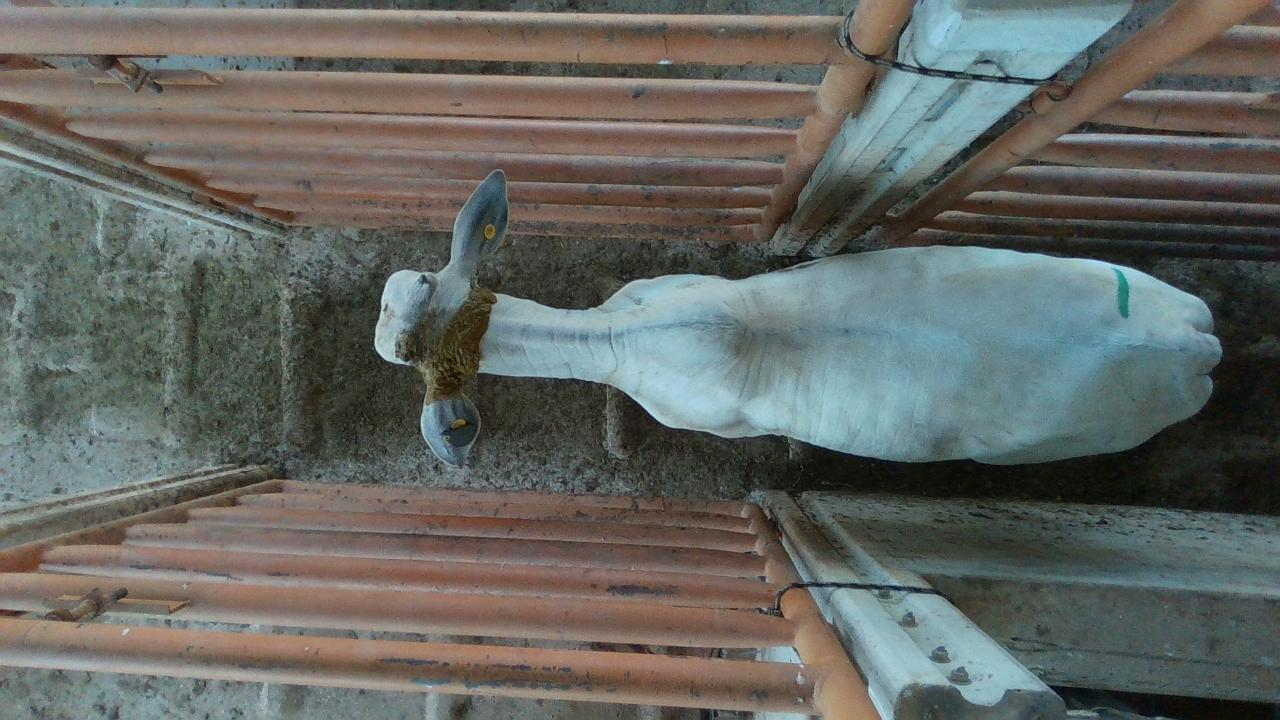cattle: (372, 167, 1223, 469)
